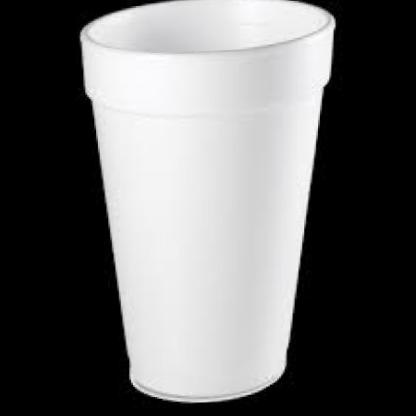trash: (81, 0, 334, 401)
